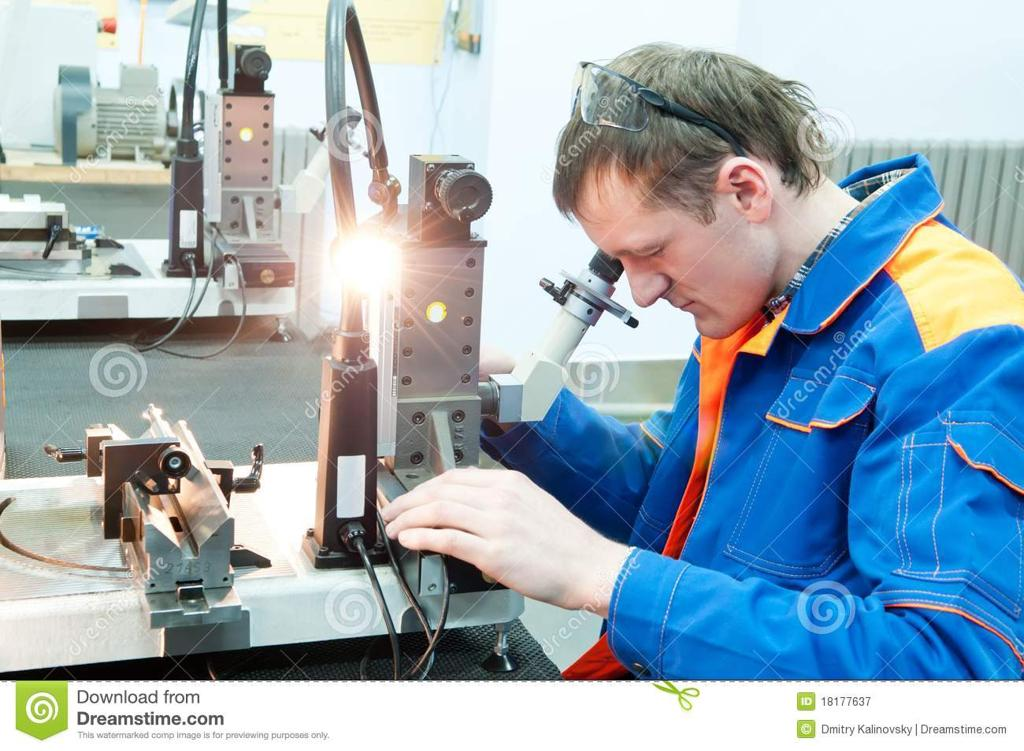face: (584, 146, 746, 340)
